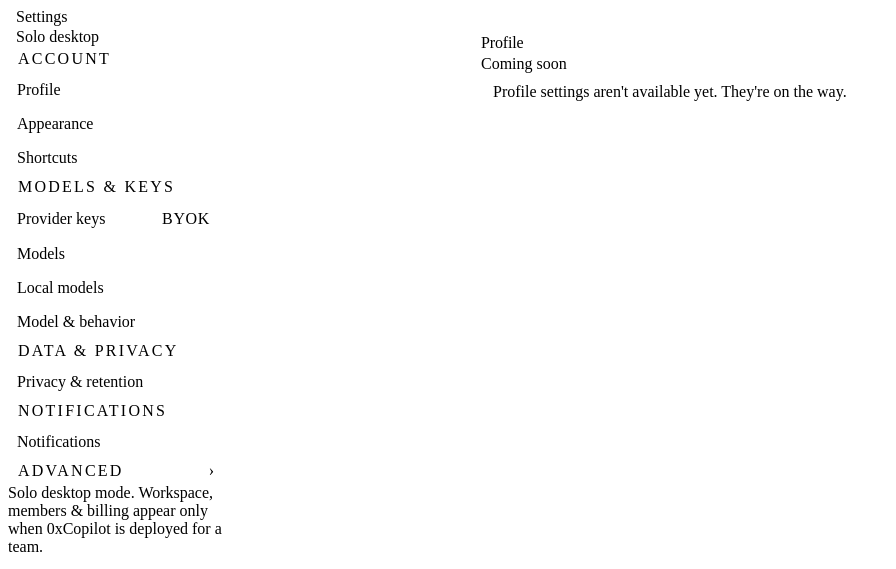
Scenario: SettingsSurface — content router (FR-5.5) › switches the active section when a nav tab is clicked (uncontrolled)
The width and height of the screenshot is (896, 569).
expect the heading "Profile" is shown: met, box [481,34,523,51]
Click the tab "Appearance".
click(116, 124)  # box [8,108,224,140]
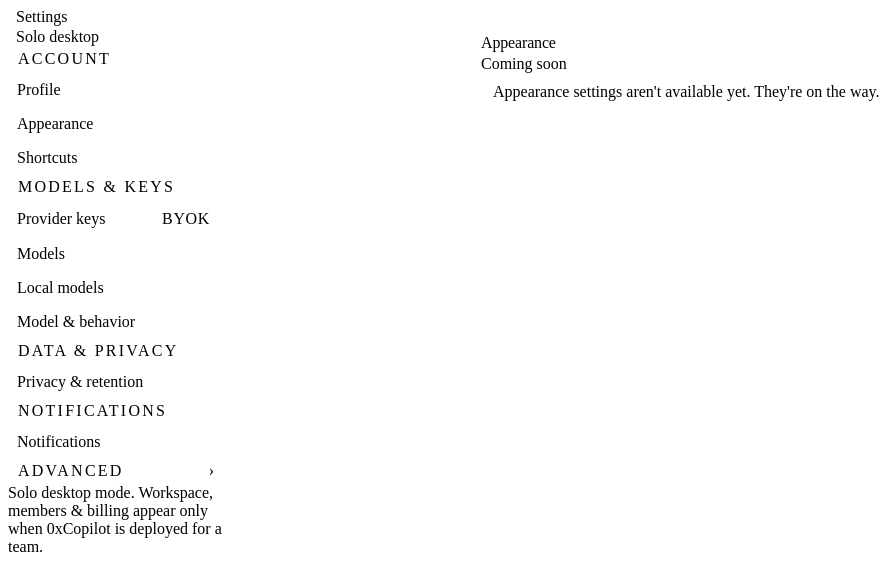
expect the heading "Appearance" is shown: met, box [481,34,567,52]
